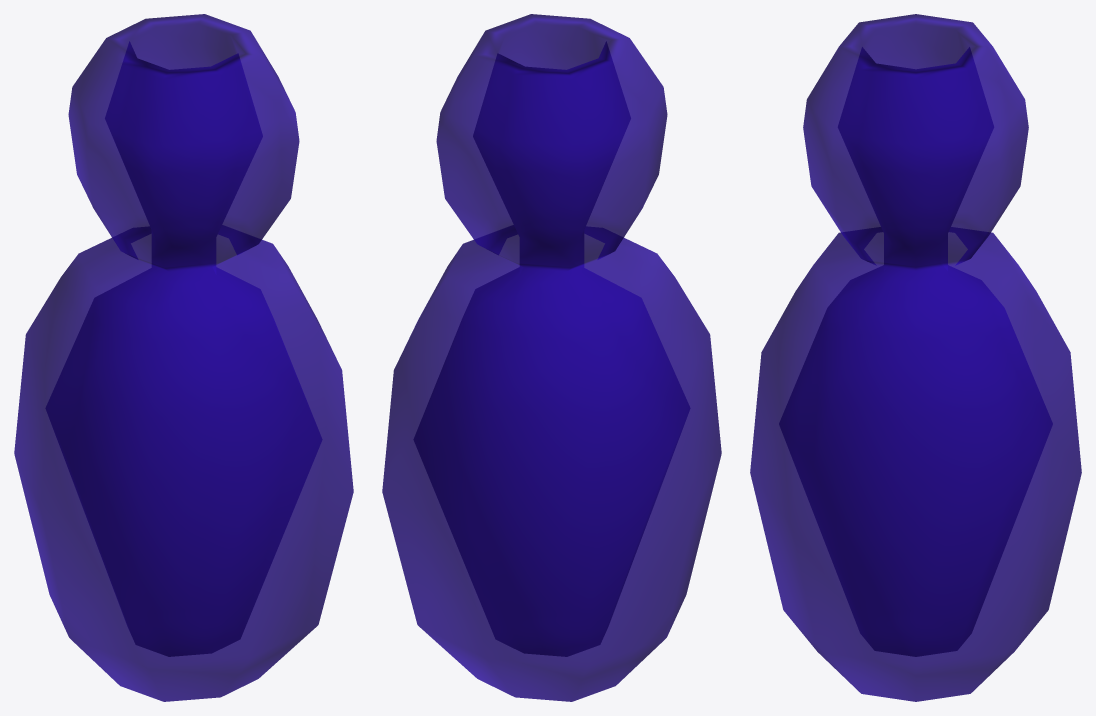
The model's file is Asset_GlassBottle.fbx.
3 renders of one model, left to right at view 1: azimuth 30°, elevation 25°; view 2: azimuth 150°, elevation 25°; view 3: azimuth 270°, elevation 25°, orthographic.
Parts seen in each view (by area): view 1: pCube583; view 2: pCube583; view 3: pCube583.
Boxes of the visible parts, <box> form: pCube583: <box>14,14,353,701</box>; pCube583: <box>382,14,721,701</box>; pCube583: <box>750,14,1081,701</box>.
Size of the model in its own units: 0.1037 by 0.2154 by 0.1037.
